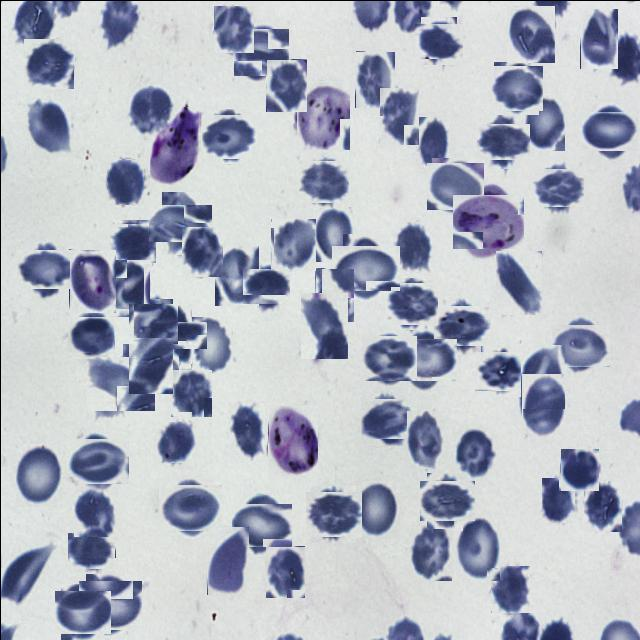difficult: (150, 106, 200, 183)
red blood cell: (90, 352, 150, 414), (336, 238, 394, 296), (81, 577, 138, 633), (452, 514, 499, 580), (300, 292, 347, 358), (162, 479, 217, 534), (16, 443, 64, 506), (70, 433, 124, 488), (495, 250, 541, 314), (206, 525, 248, 594), (520, 344, 564, 408), (521, 373, 565, 436), (398, 333, 450, 386), (428, 160, 481, 212), (506, 5, 554, 62), (235, 498, 287, 550), (214, 245, 258, 305), (354, 480, 399, 538), (307, 488, 358, 539), (236, 26, 286, 78), (154, 198, 206, 248), (124, 340, 176, 390), (23, 38, 74, 88), (363, 333, 414, 383), (25, 97, 70, 153), (20, 244, 70, 294), (556, 320, 606, 370), (204, 110, 254, 160), (56, 586, 106, 636), (408, 522, 451, 580), (436, 301, 486, 350), (269, 217, 315, 270), (190, 316, 232, 374), (491, 63, 540, 112), (108, 258, 149, 316), (354, 49, 394, 108), (584, 106, 632, 155), (522, 94, 564, 150), (378, 86, 418, 144), (579, 7, 617, 68), (422, 476, 470, 524), (362, 395, 410, 442), (406, 410, 444, 468), (128, 84, 172, 134), (312, 206, 352, 261), (265, 58, 306, 111), (300, 158, 346, 205), (388, 280, 434, 326), (477, 347, 523, 393), (314, 267, 353, 321), (73, 486, 115, 536), (454, 428, 495, 479), (228, 402, 264, 460), (264, 545, 304, 597), (130, 300, 175, 346), (181, 226, 222, 276), (392, 221, 432, 272), (535, 164, 580, 209), (169, 368, 211, 416), (480, 119, 524, 164), (583, 480, 621, 531), (110, 221, 154, 265), (415, 116, 449, 172), (213, 5, 253, 52), (490, 566, 529, 614), (156, 313, 198, 356), (69, 313, 111, 355), (154, 420, 196, 462), (70, 528, 112, 570), (418, 19, 460, 61), (105, 158, 143, 204), (246, 264, 286, 306), (559, 447, 598, 490), (542, 477, 576, 522)
ring: (295, 79, 349, 149), (68, 248, 115, 312)
trophozoite: (456, 189, 519, 252), (267, 404, 317, 475)
